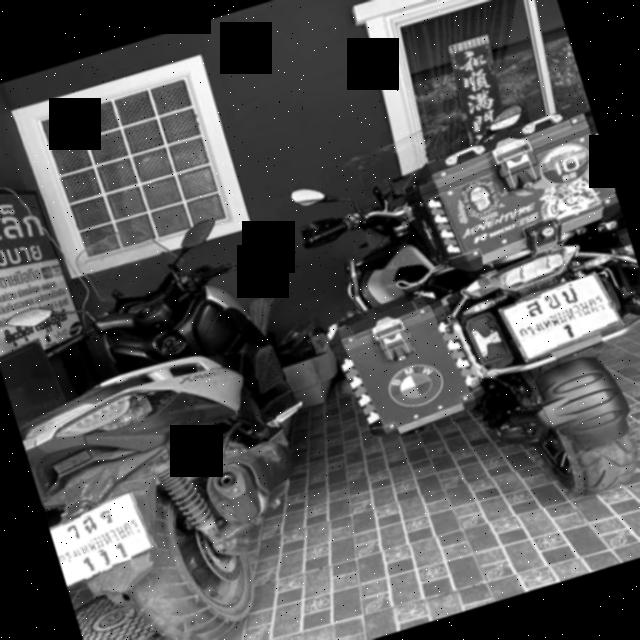letters: (78, 553, 100, 581), (556, 284, 580, 308), (62, 518, 80, 544), (525, 295, 546, 317), (112, 540, 132, 563), (78, 515, 98, 538), (95, 549, 114, 573), (562, 319, 578, 340), (546, 291, 562, 310), (100, 506, 114, 524)
license-plate: (50, 492, 154, 587), (504, 274, 620, 358)
province: (516, 296, 614, 336), (56, 523, 146, 561)
